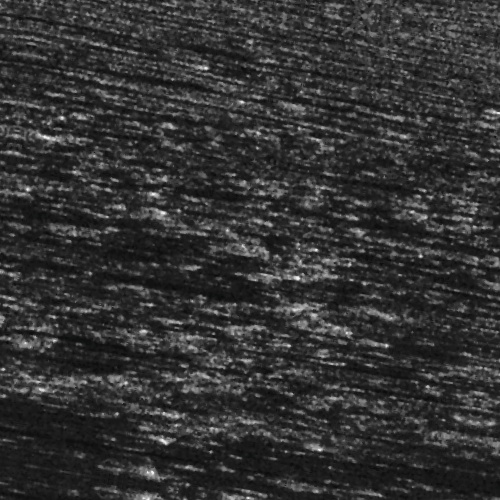object: (0, 161, 50, 174), (173, 444, 204, 449), (286, 292, 297, 303), (0, 136, 9, 143)
shadow: (19, 440, 500, 449), (121, 292, 291, 303), (107, 444, 188, 449)
